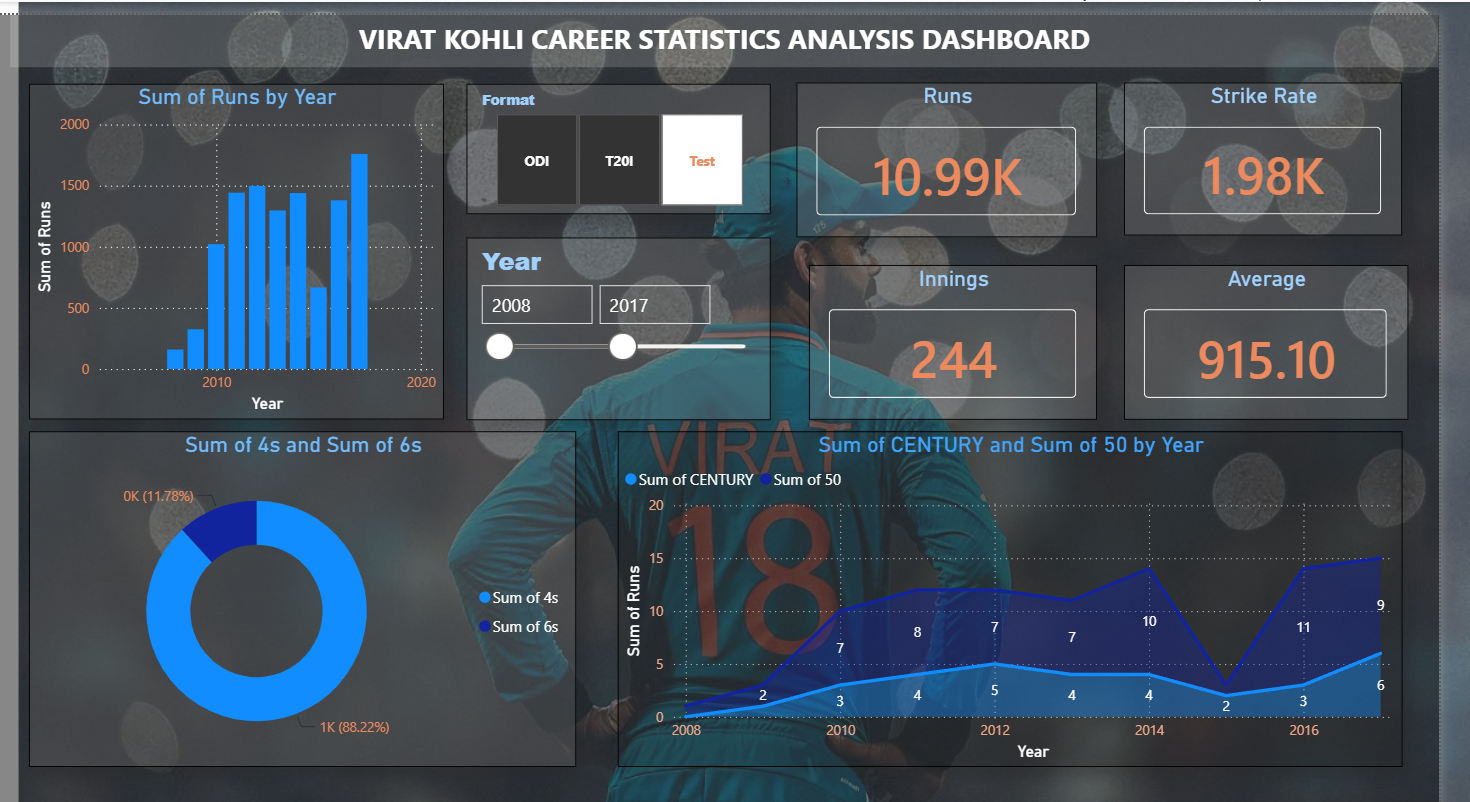

The dashboard page shown, as its layout file describes it:
{"tool":"powerbi","page":{"name":"Page 1","canvas":[1280,720],"ordinal":0},"visuals":[{"type":"cardVisual","title":"Innings","fields":{"Data":["Sum(Sheet1.Innings)"]},"box":[720,222.5,256.2,137.5],"z":0},{"type":"textbox","box":[10.5,0,1269.8,46.5],"z":1000},{"type":"cardVisual","title":"Average","fields":{"Data":["Sum(Sheet1.Averages)"]},"box":[1000,222.5,252.5,137.5],"z":2000},{"type":"cardVisual","title":"Runs","fields":{"Data":["Sum(Sheet1.Runs)"]},"box":[708.8,60,267.5,137.5],"z":3000},{"type":"cardVisual","title":"Strike Rate","fields":{"Data":["Sum(Sheet1.SR)"]},"box":[1000,60,247.5,136.2],"z":3001},{"type":"slicer","fields":{"Values":["Sheet1.Column1"]},"box":[415,61.2,270,116.2],"z":3002},{"type":"slicer","fields":{"Values":["Sheet1.Year"]},"box":[415,197.5,270,162.5],"z":3003},{"type":"clusteredColumnChart","fields":{"Y":["Sum(Sheet1.Runs)"],"Category":["Sheet1.Year"]},"box":[26.2,61.2,368.8,298.8],"z":3004},{"type":"donutChart","fields":{"Y":["Sum(Sheet1.4s)","Sum(Sheet1.6s)"]},"box":[26.2,370,486.2,298.8],"z":3005},{"type":"stackedAreaChart","fields":{"Y":["Sum(Sheet1.CENTURY)","Sum(Sheet1.50)"],"Category":["Sheet1.Year"]},"box":[550,370,697.5,298.8],"z":3006}]}

Visuals, with their boxes on the page's 1280x720 design canvas (x1, y1, x2, y2). These are canvas units, not pixel positions in the 1470x802 screenshot, which may show the page scaled, cropped or inside an application window:
"Innings" cardVisual: 720/222/976/360
textbox: 10/0/1280/46
"Average" cardVisual: 1000/222/1252/360
"Runs" cardVisual: 709/60/976/198
"Strike Rate" cardVisual: 1000/60/1248/196
slicer - Sheet1.Column1: 415/61/685/177
slicer - Sheet1.Year: 415/198/685/360
clusteredColumnChart - Sum(Sheet1.Runs) x Sheet1.Year: 26/61/395/360
donutChart - Sum(Sheet1.4s) x Sum(Sheet1.6s): 26/370/512/669
stackedAreaChart - Sum(Sheet1.CENTURY) x Sum(Sheet1.50): 550/370/1248/669
